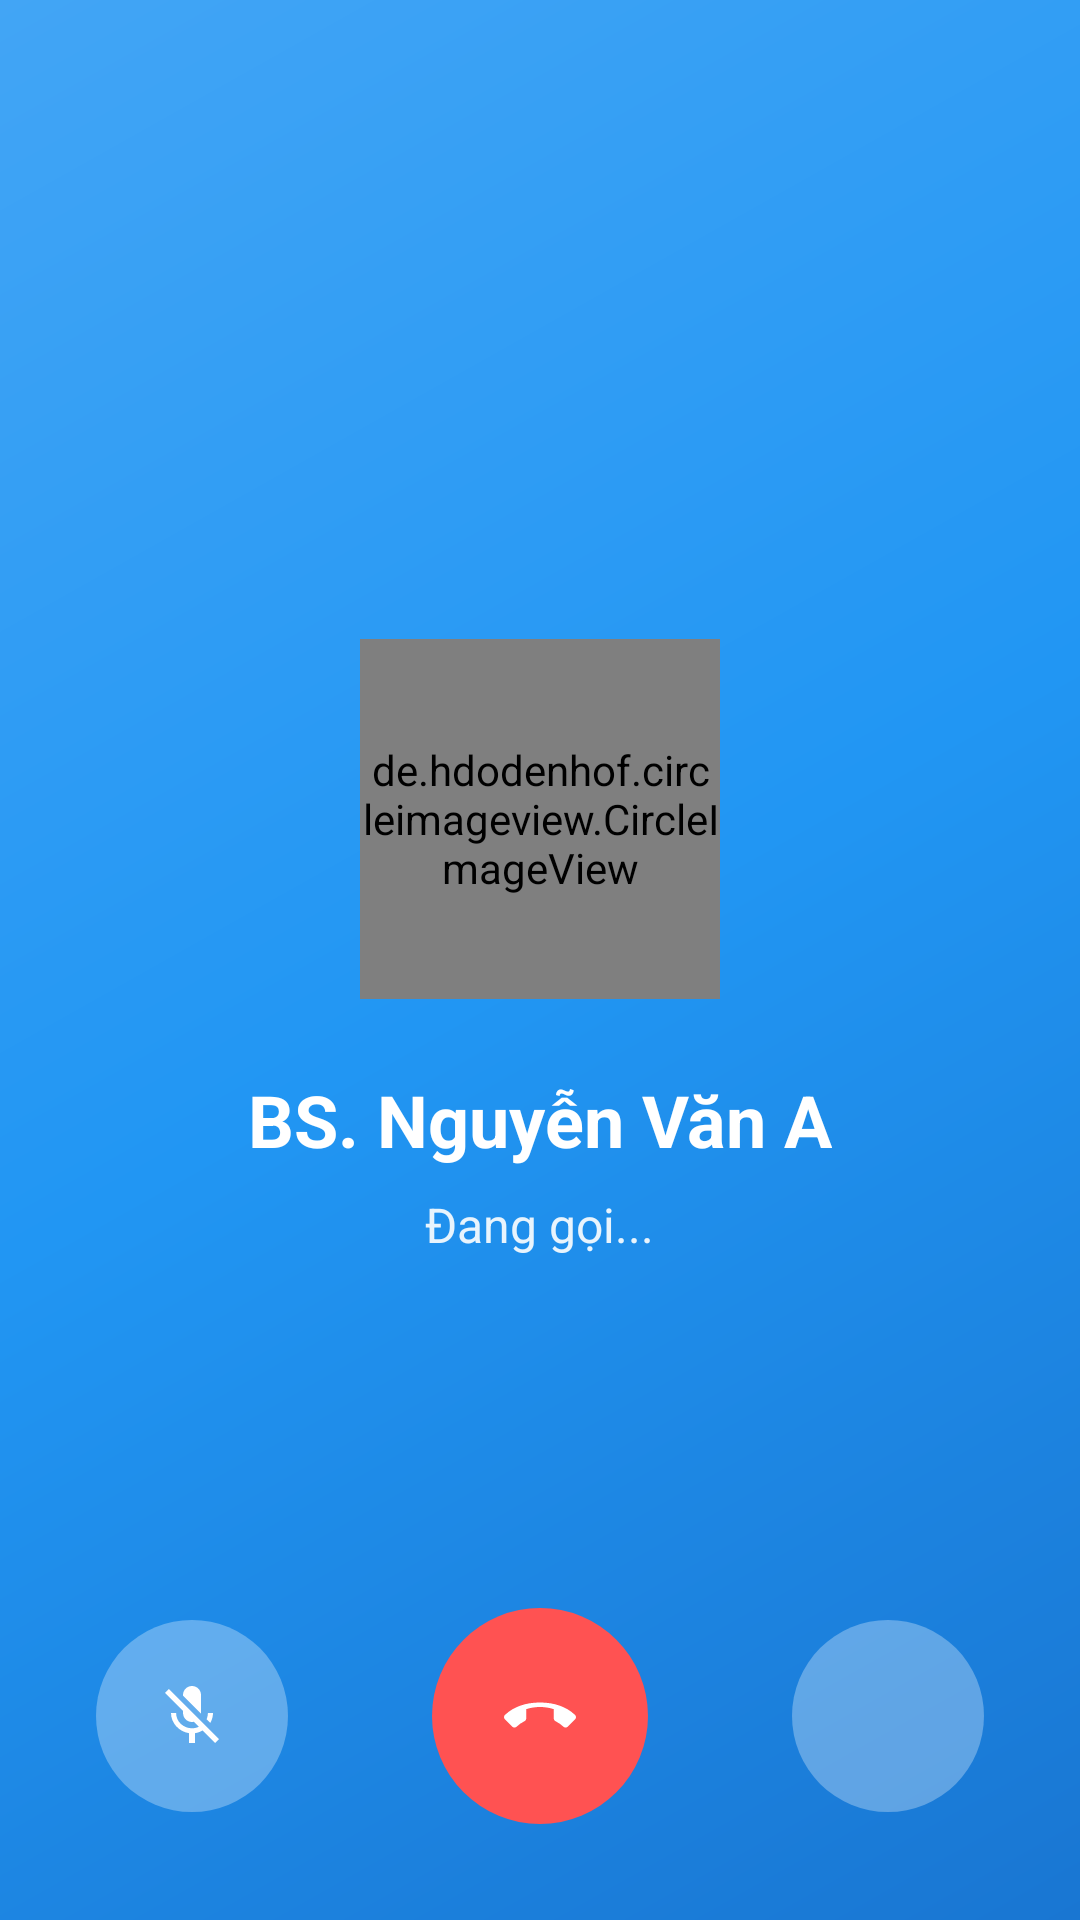

Point at icon controls on the screen. Image size 1080 × 1920, points as point (x, y).
Kết thúc cuộc gọi: point (540, 1716)
Tắt tiếng: point (192, 1716)
